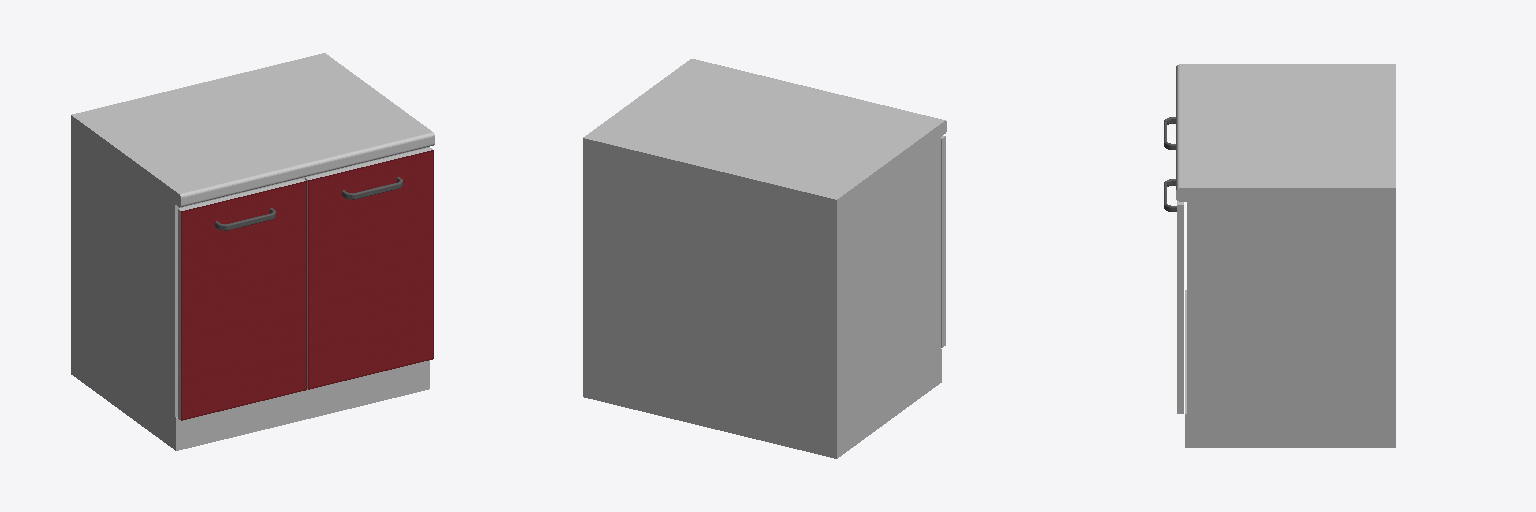
3 views of the same model, side by side, from view 1: azimuth 30°, elevation 25°; view 2: azimuth 150°, elevation 25°; view 3: azimuth 270°, elevation 25° (orthographic).
Parts seen in each view (by area): view 1: Line67_10, Box522_4, Box532_7, Rectangle17_11, Box54_9, Box523_5; view 2: Rectangle17_11, Line67_10, Box54_9, Box523_5; view 3: Rectangle17_11, Line67_10, Box54_9, Box533_8.
Boxes of the visible parts, box(x1,y1,x2,y2) form: Line67_10: box(71, 53, 434, 207); Box522_4: box(181, 181, 306, 420); Box532_7: box(308, 150, 433, 389); Rectangle17_11: box(71, 129, 428, 416); Box54_9: box(71, 341, 429, 450); Box523_5: box(178, 209, 180, 419); Rectangle17_11: box(583, 137, 940, 425); Line67_10: box(583, 59, 946, 212); Box54_9: box(583, 349, 941, 458); Box523_5: box(941, 136, 945, 347); Rectangle17_11: box(1187, 202, 1395, 413); Line67_10: box(1176, 64, 1395, 201); Box54_9: box(1185, 290, 1395, 447); Box533_8: box(1177, 205, 1183, 413).
Bounding box in the file's own units: 80 × 78 × 63.38.
Materials: 4 (3 with a texture image).